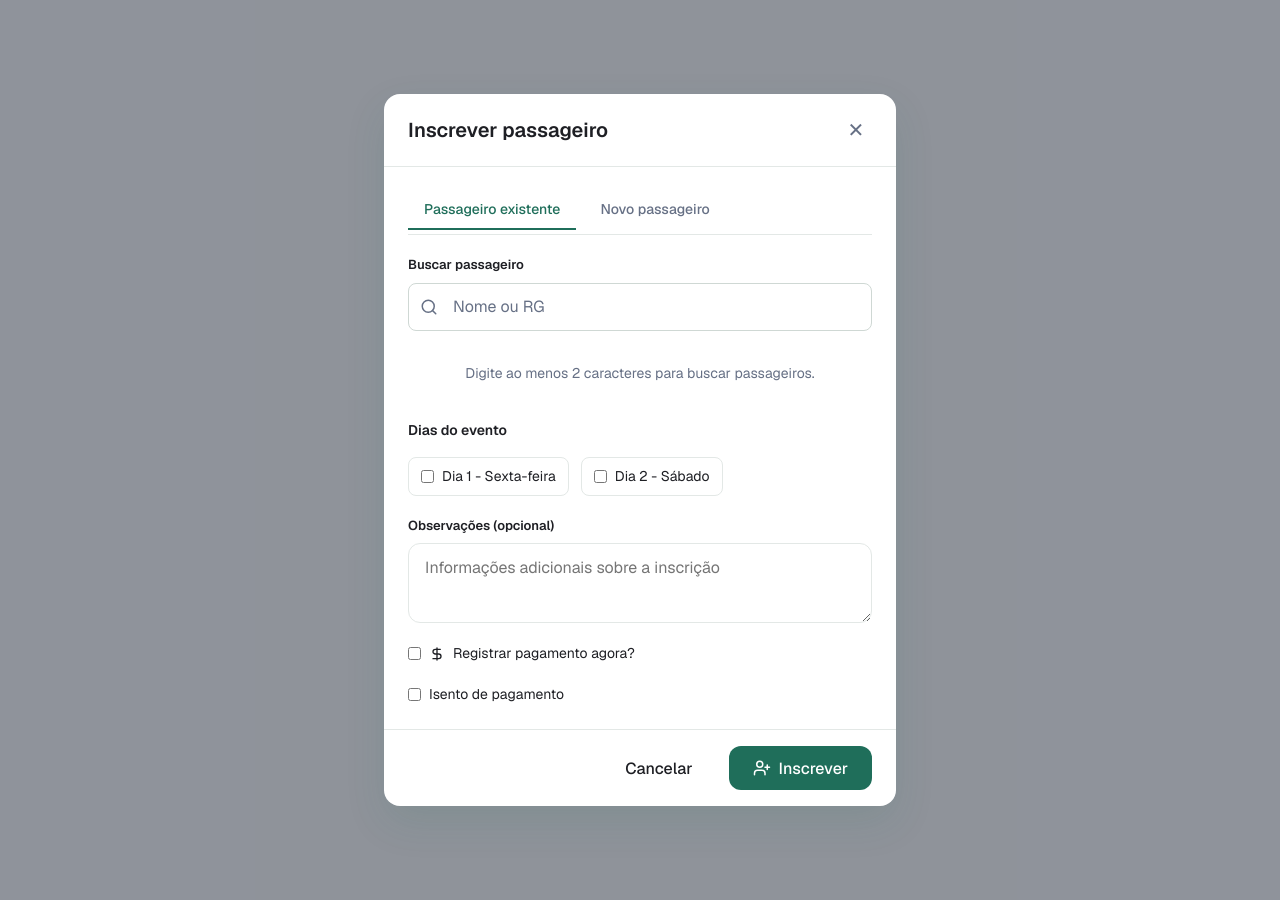
Scenario: EnrollPassengerModal › exibe campo de isenção ao marcar checkbox
Click the checkbox labelled "Isento de pagamento".
click(414, 694)  # box x1=408 y1=688 x2=421 y2=701
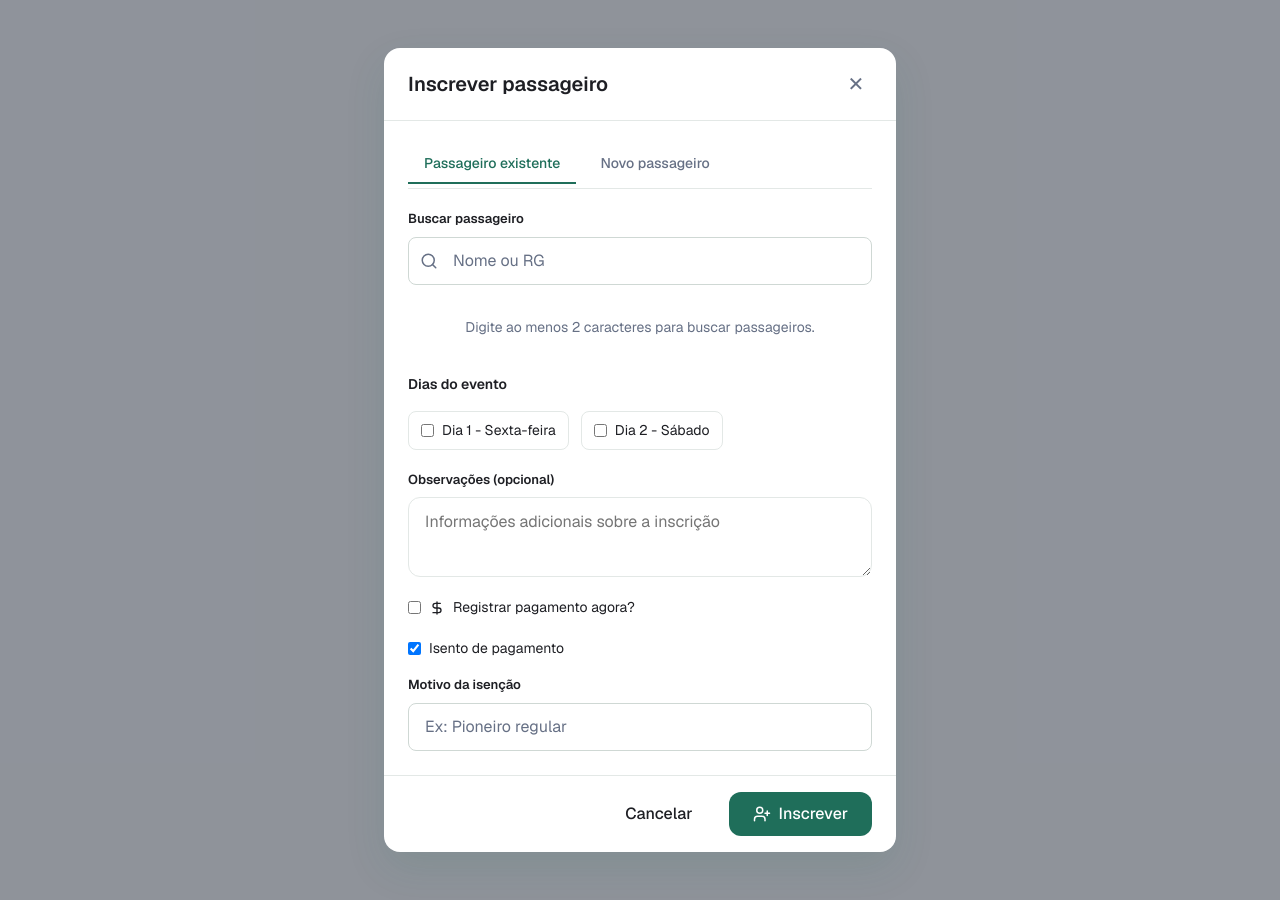
Expected: the field labelled "Motivo da isenção" is shown, x1=408 y1=703 x2=872 y2=751
